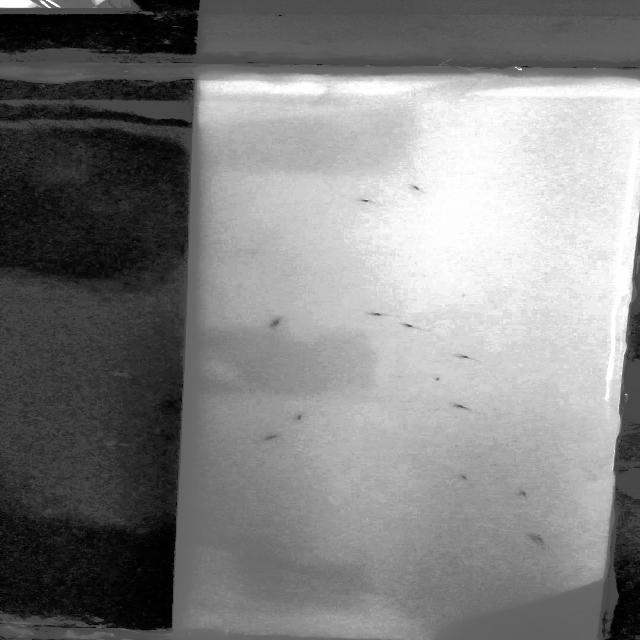shrimp: (401, 180, 433, 196), (398, 321, 440, 333), (365, 309, 403, 321), (452, 351, 482, 364), (256, 431, 288, 443), (455, 403, 483, 416), (267, 318, 297, 330), (528, 532, 553, 546), (355, 196, 383, 207), (454, 473, 482, 484), (514, 489, 538, 501), (434, 377, 454, 388), (296, 414, 310, 424)
